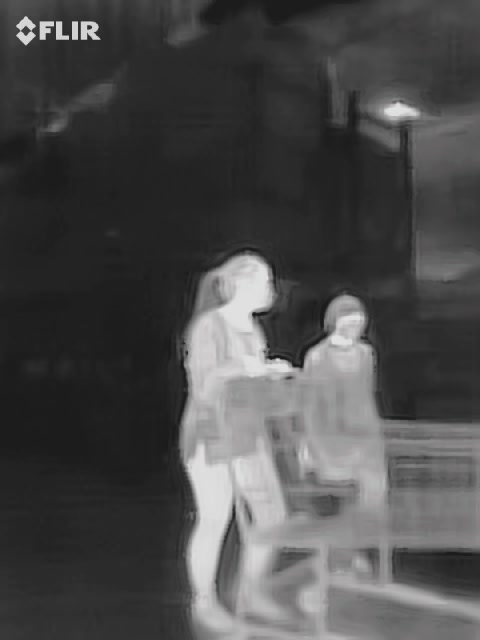head: (219, 254, 277, 314), (327, 293, 369, 344)
